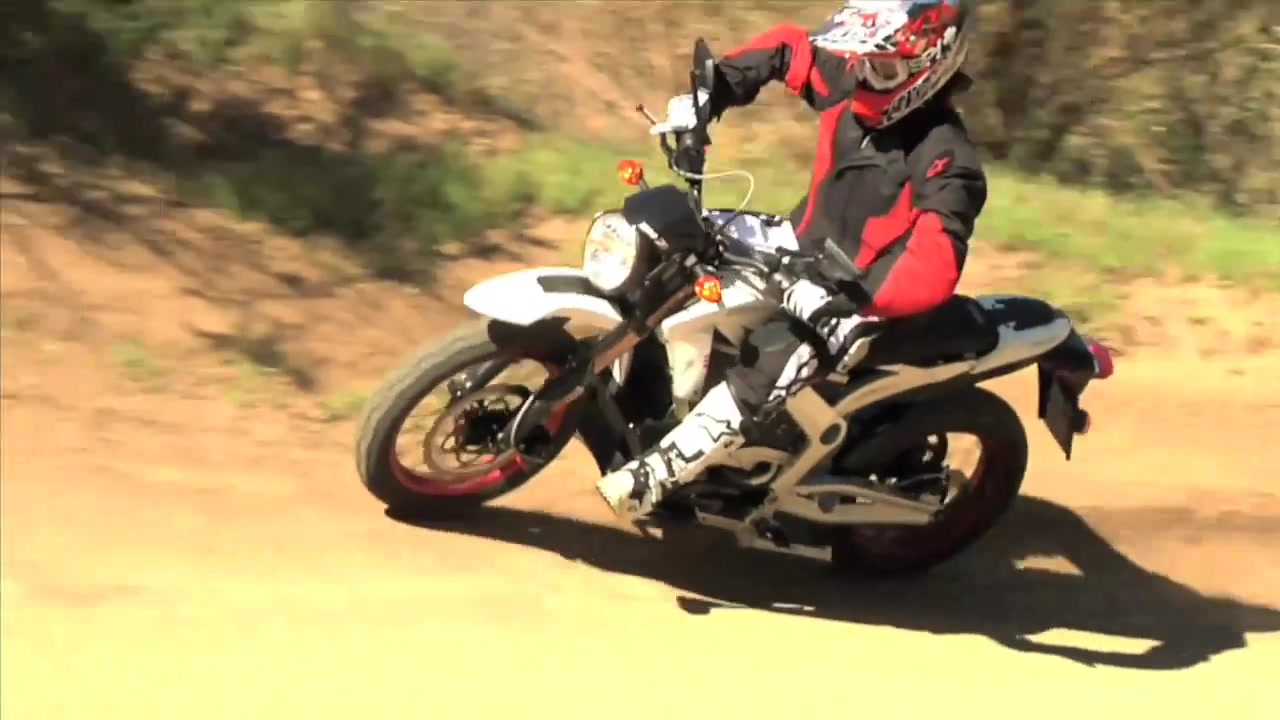motorbike: (355, 38, 1123, 577)
